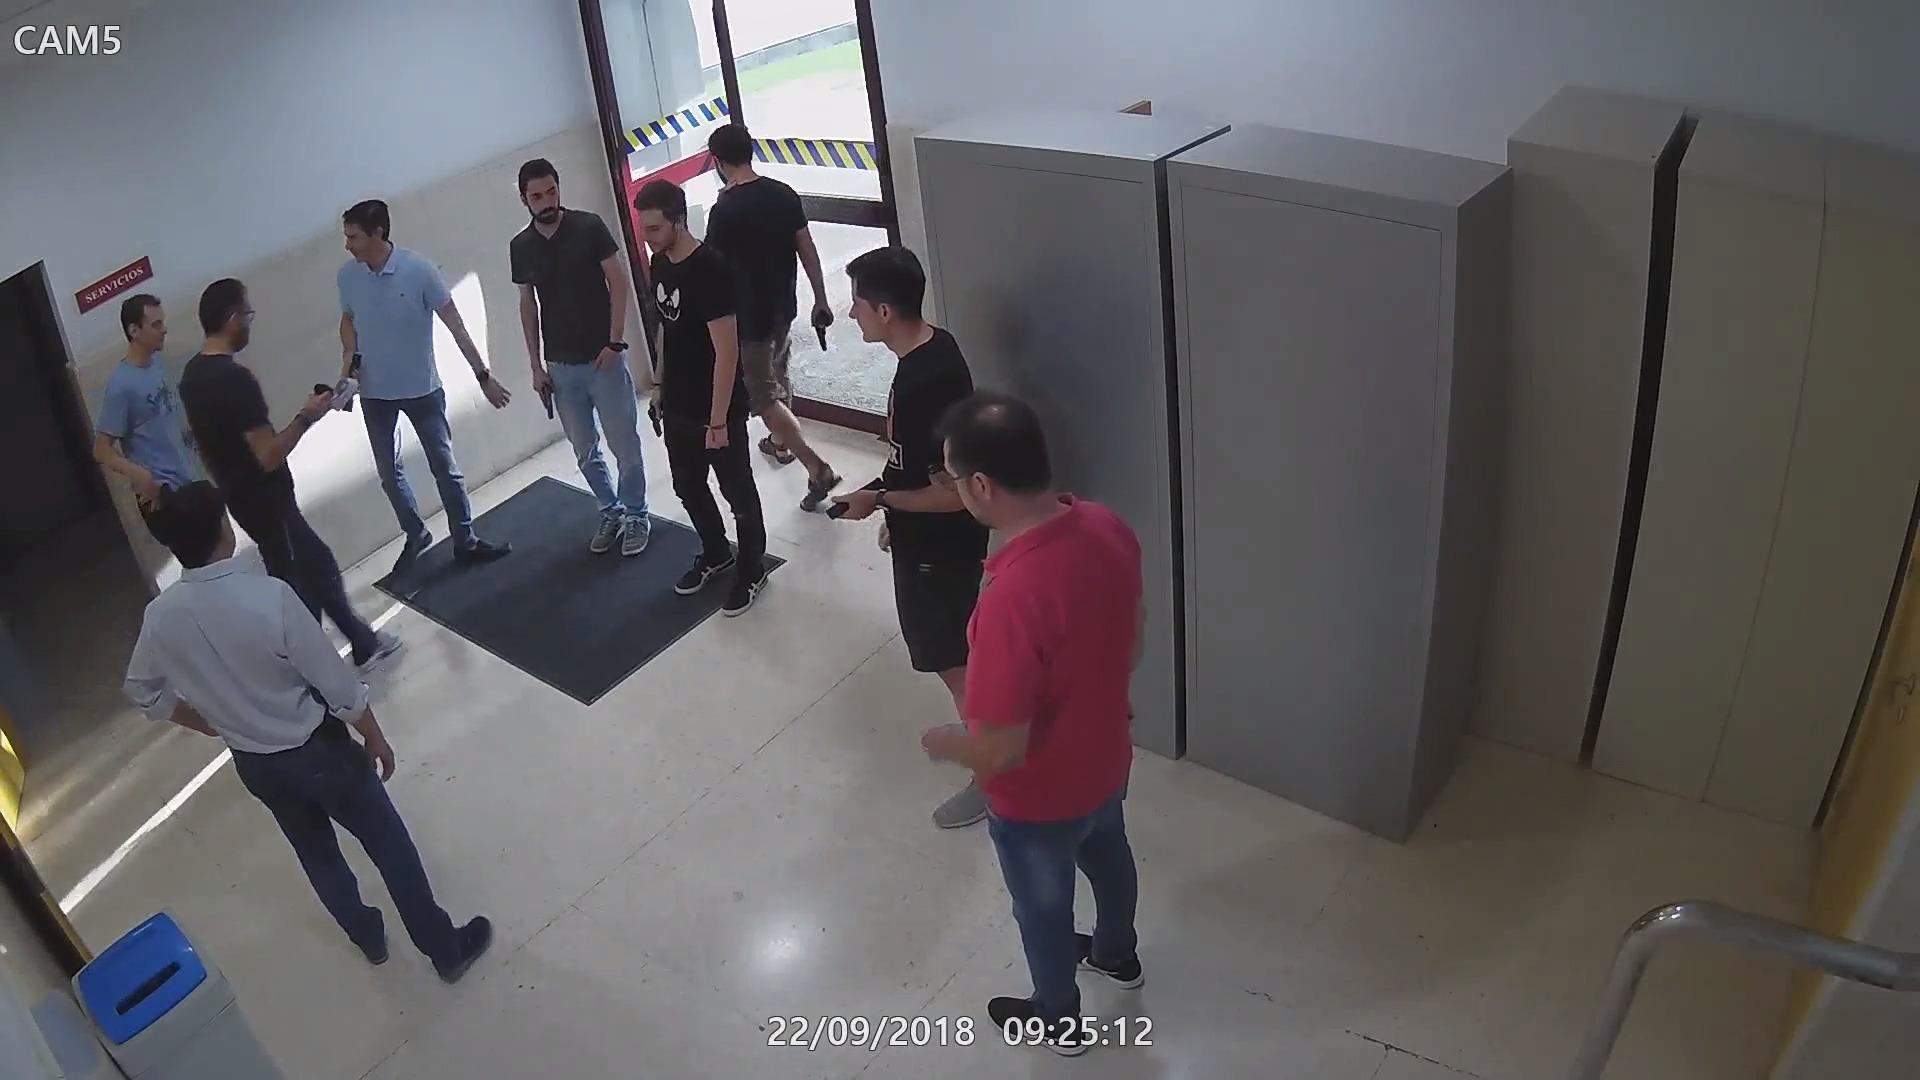Handgun: (820, 471, 890, 535), (313, 694, 349, 754), (808, 299, 837, 353), (640, 384, 666, 442), (530, 371, 556, 421), (142, 479, 170, 513)
